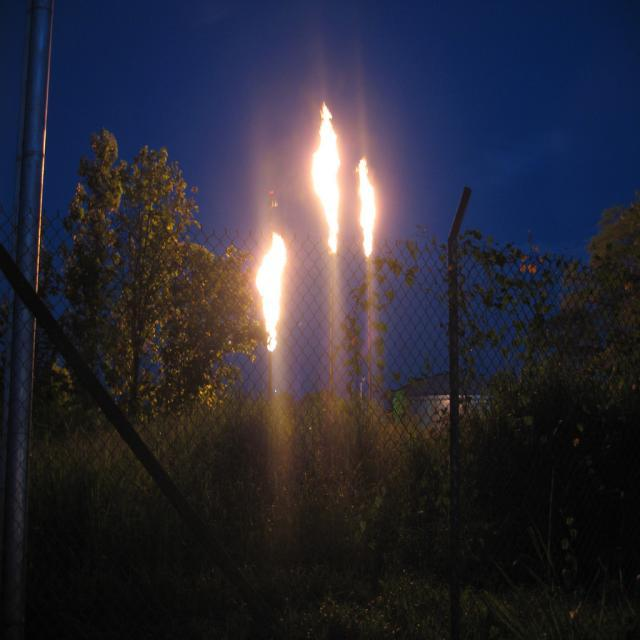Fire: (262, 242, 288, 334), (318, 128, 338, 227), (361, 167, 380, 256)
